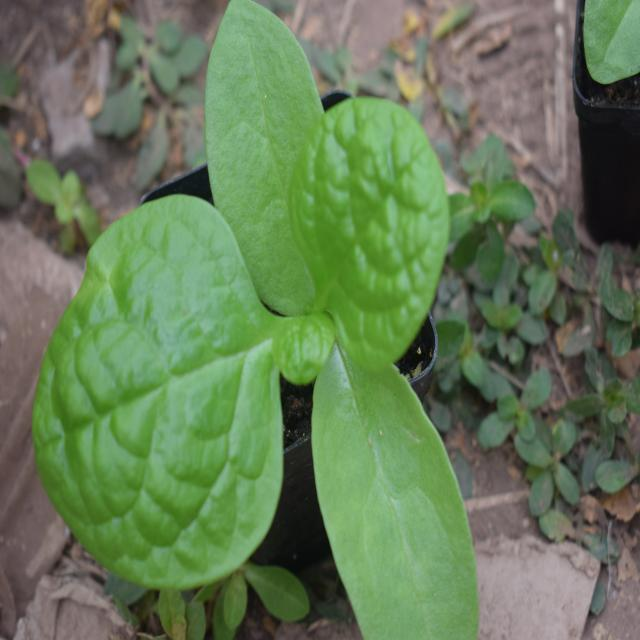Ceylon spinach: (44, 50, 500, 609)
